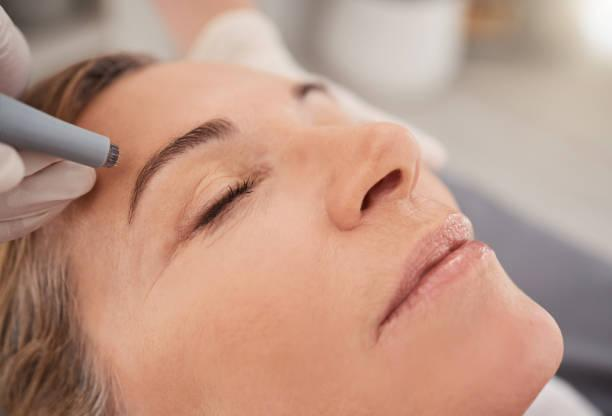Dry-Skin: (121, 240, 359, 406)
